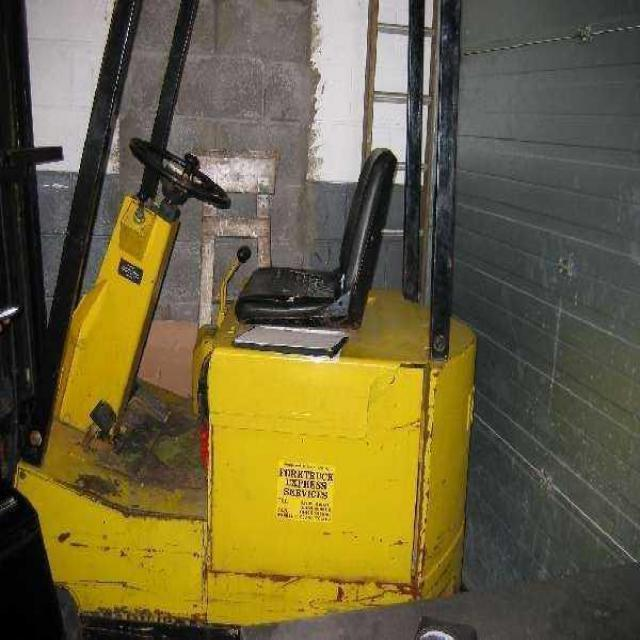forklift: (0, 0, 477, 639)
